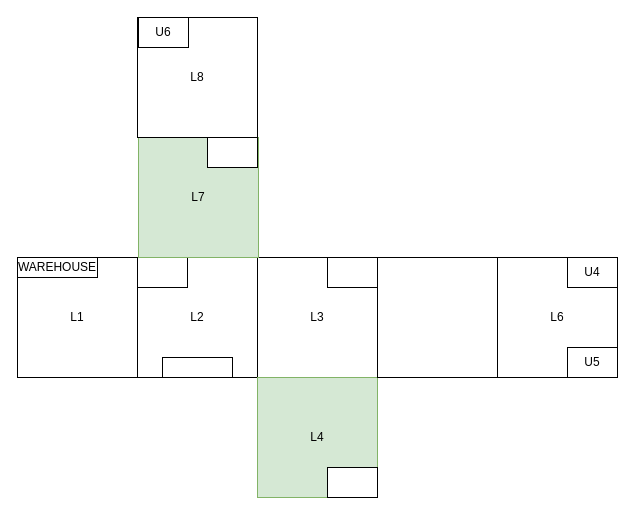
Some shapes in this 635 by 515 pixel diagram are drawn without their labels. The shapes that lost their labels are listed below. From the top down, each one's centre as x and y in pixels, then its label:
At point (232, 152): "U7".
At point (162, 272): "U3".
At point (352, 272): "U1".
At point (437, 317): "L5".
At point (197, 367): "ENTRANCE".
At point (352, 482): "U2".
